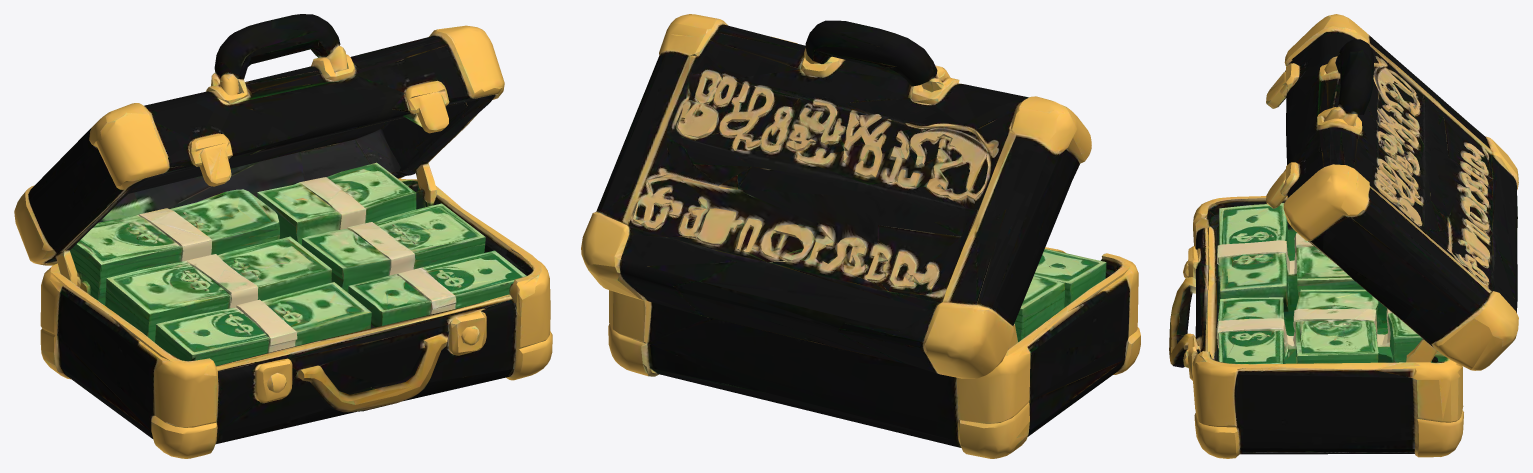
File: maleta_corpo.m.glb
3 renders of one model, left to right at view 1: azimuth 30°, elevation 25°; view 2: azimuth 150°, elevation 25°; view 3: azimuth 270°, elevation 25°, orthographic. The views are drawn at different scales.
Visible parts, largest first — view 1: output_unwrapped; view 2: output_unwrapped; view 3: output_unwrapped.
Boxes of the visible parts, box(x1,y1,x2,y2) form: output_unwrapped: box(14, 14, 552, 458); output_unwrapped: box(581, 14, 1140, 458); output_unwrapped: box(1169, 14, 1518, 458).
Size of the model in its own units: 1.9 by 1.59 by 1.57.
1 material, 1 textured.
